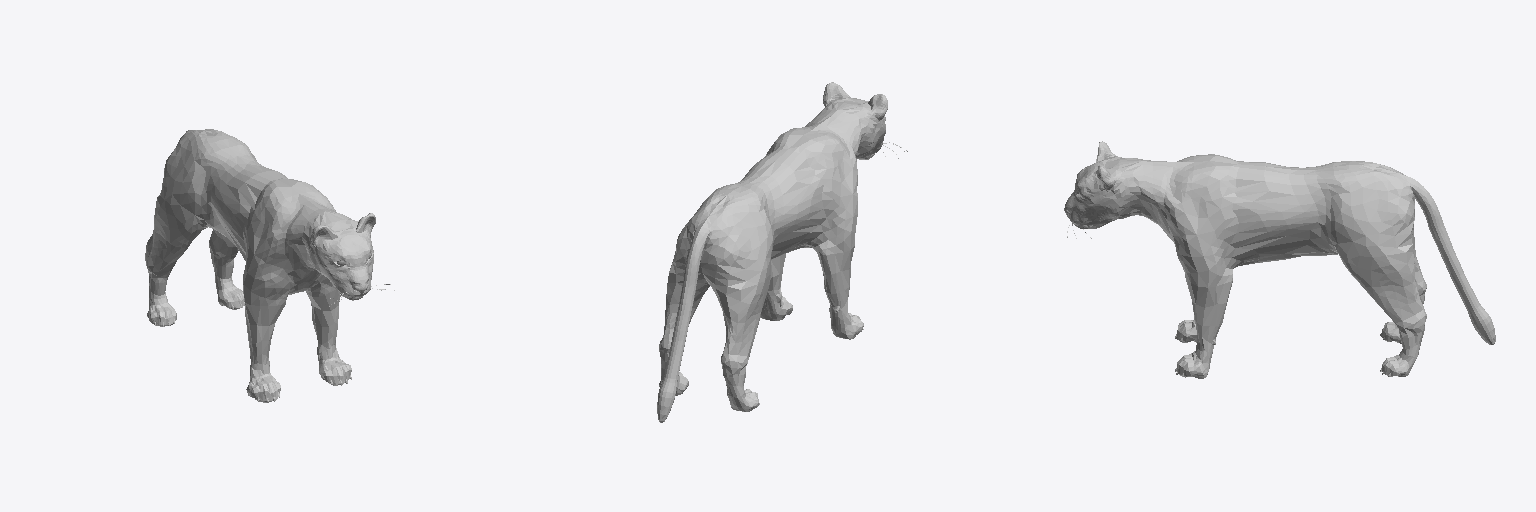
Rendered from JAGUAR.OBJ.
The picture shows the model from 3 angles: view 1: azimuth 30°, elevation 25°; view 2: azimuth 150°, elevation 25°; view 3: azimuth 270°, elevation 25°; orthographic projection.
Parts seen in each view (by area): view 1: jag_body; view 2: jag_body; view 3: jag_body.
Part boxes in pixels (left/top/right/bottom): jag_body: left=145, top=129, right=375, bottom=402; jag_body: left=657, top=82, right=887, bottom=422; jag_body: left=1064, top=141, right=1495, bottom=378.
Bounding box in the file's own units: 0.4643 × 0.9011 × 1.73.